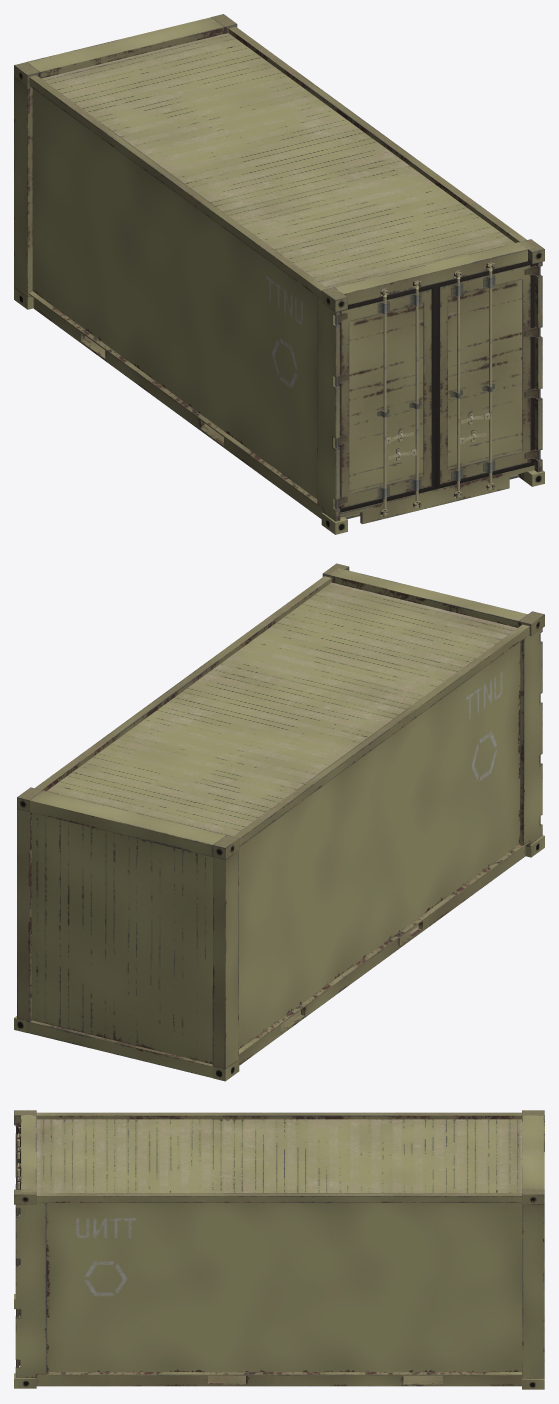
The model's file is Contener_Green.fbx.
The picture shows the model from 3 angles, top to bottom: view 1: azimuth 30°, elevation 25°; view 2: azimuth 150°, elevation 25°; view 3: azimuth 270°, elevation 25°; orthographic projection. The views are drawn at different scales.
Parts seen in each view (by area): view 1: bok_LP1_T5_0, door_plast_LP1_T5_0, door_plast_LP_T5_0; view 2: bok_LP1_T5_0; view 3: bok_LP1_T5_0.
Part boxes in pixels (x1,y1,x2,y2): bok_LP1_T5_0: (14,14,544,534); door_plast_LP1_T5_0: (435,261,540,498); door_plast_LP_T5_0: (335,281,435,516); bok_LP1_T5_0: (14,563,544,1081); bok_LP1_T5_0: (14,1110,544,1389).
Size of what is drawn, in the model's own units: 230 by 242 by 601.
